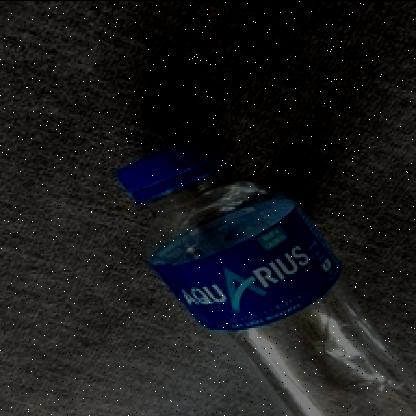Plastic Bottle: (115, 133, 414, 415)
